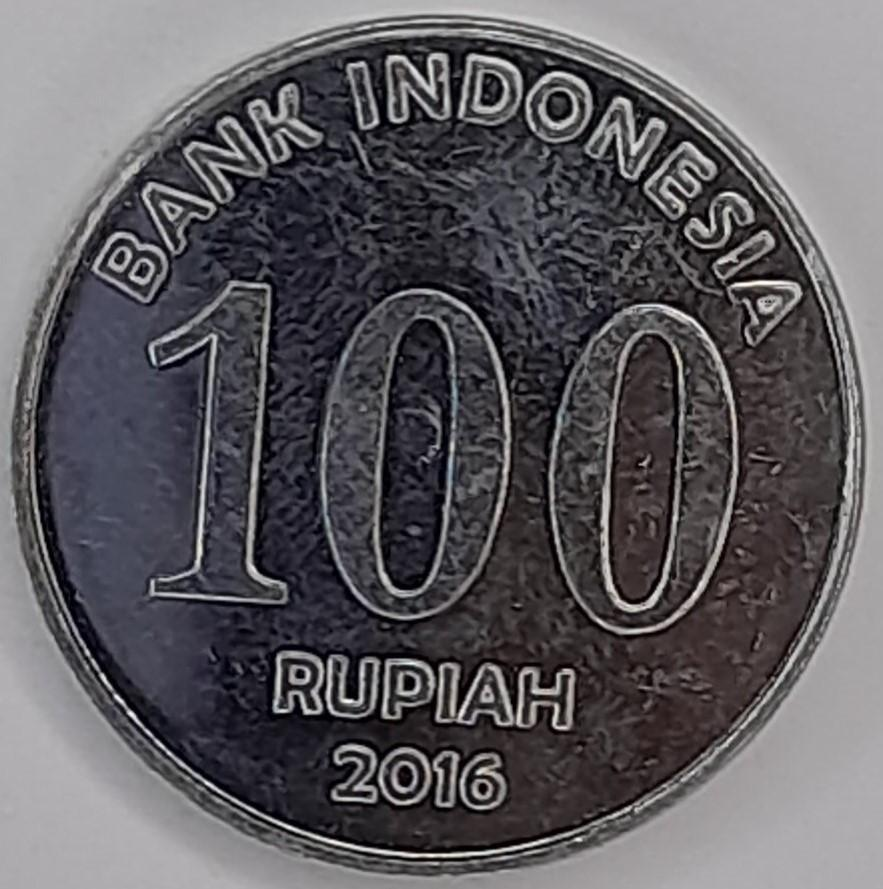coin_100_e2016: (4, 7, 871, 878)
